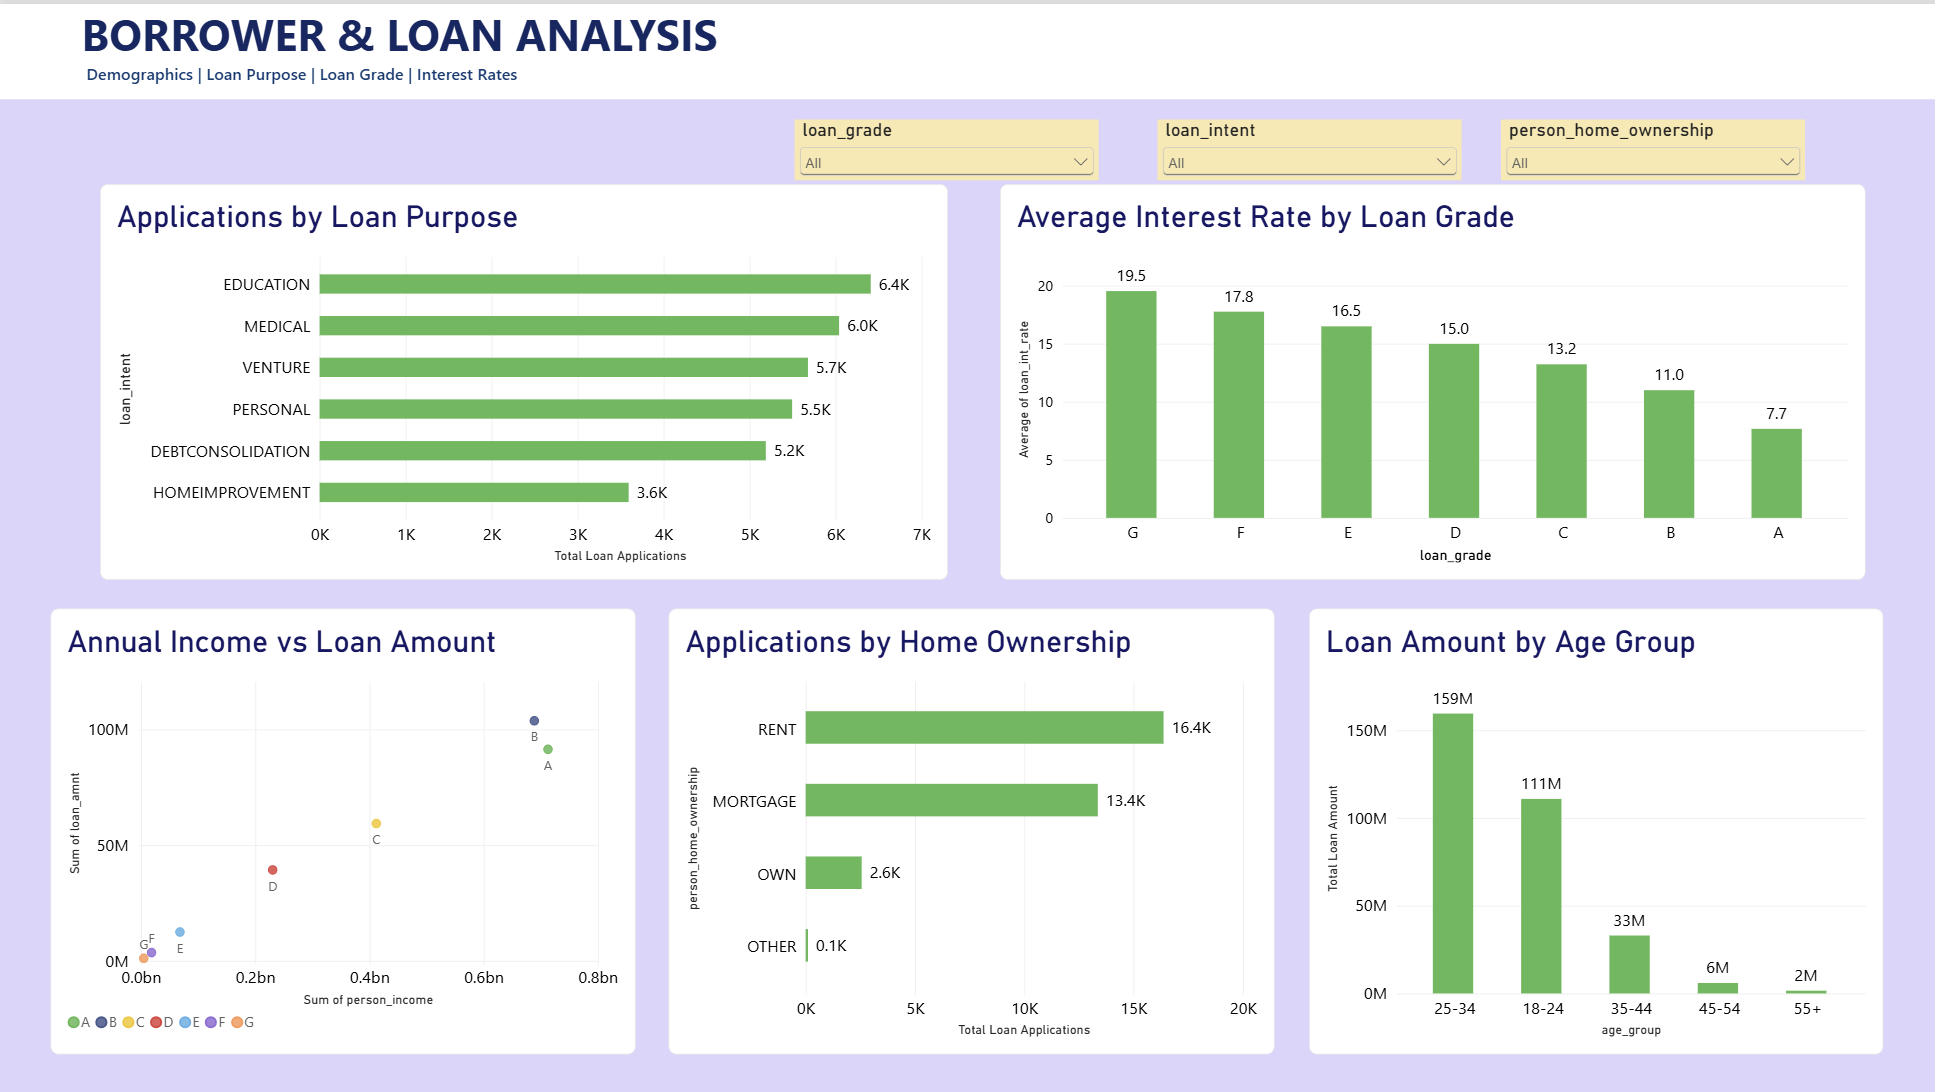

The dashboard page shown, as its layout file describes it:
{"tool":"powerbi","page":{"name":"loan","canvas":[1920,1080],"ordinal":1},"visuals":[{"type":"clusteredBarChart","title":"Applications by Loan Purpose","fields":{"Category":["loan_risk_portfolio credit_risk_dataset.loan_intent"],"Y":["loan_risk_portfolio credit_risk_dataset.Total Loan Applications"]},"box":[100,178,836.9,390.8],"z":0},{"type":"clusteredColumnChart","title":"Average Interest Rate by Loan  Grade","fields":{"Category":["loan_risk_portfolio credit_risk_dataset.loan_grade"],"Y":["Avg(loan_risk_portfolio credit_risk_dataset.loan_int_rate)"]},"box":[988,178,854.3,390.8],"z":1},{"type":"scatterChart","title":"Annual Income vs Loan Amount","fields":{"Series":["loan_risk_portfolio credit_risk_dataset.loan_grade"],"X":["Sum(loan_risk_portfolio credit_risk_dataset.person_income)"],"Y":["Sum(loan_risk_portfolio credit_risk_dataset.loan_amnt)"]},"box":[52,596,577.5,439.8],"z":2},{"type":"clusteredBarChart","title":"Applications by Home Ownership","fields":{"Category":["loan_risk_portfolio credit_risk_dataset.person_home_ownership"],"Y":["loan_risk_portfolio credit_risk_dataset.Total Loan Applications"]},"box":[662,596,598,439.8],"z":3},{"type":"clusteredColumnChart","title":"Applications by Age Group","fields":{"Category":["loan_risk_portfolio credit_risk_dataset.age_group"],"Y":["loan_risk_portfolio credit_risk_dataset.Total Loan Amountt"]},"box":[1294,596,566.4,439.8],"z":4},{"type":"slicer","fields":{"Values":["loan_risk_portfolio credit_risk_dataset.loan_grade"]},"box":[785.5,113.4,300.2,60],"z":5},{"type":"slicer","fields":{"Values":["loan_risk_portfolio credit_risk_dataset.loan_intent"]},"box":[1144,113.4,300.2,60],"z":6},{"type":"slicer","fields":{"Values":["loan_risk_portfolio credit_risk_dataset.person_home_ownership"]},"box":[1482.5,113.4,300.2,60],"z":7},{"type":"textbox","box":[0,0,1920,94],"z":8},{"type":"textbox","box":[78,58,502,22],"z":9}]}

Visuals, with their boxes in screenshot pixels (x1, y1, x2, y2), scaled from the page's 1920x1080 canvas onto the 1935x1092 screenshot:
"Applications by Loan Purpose" clusteredBarChart: <bbox>101, 180, 944, 575</bbox>
"Average Interest Rate by Loan  Grade" clusteredColumnChart: <bbox>996, 180, 1857, 575</bbox>
"Annual Income vs Loan Amount" scatterChart: <bbox>52, 603, 634, 1047</bbox>
"Applications by Home Ownership" clusteredBarChart: <bbox>667, 603, 1270, 1047</bbox>
"Applications by Age Group" clusteredColumnChart: <bbox>1304, 603, 1875, 1047</bbox>
slicer - loan_risk_portfolio credit_risk_dataset.loan_grade: <bbox>792, 115, 1094, 175</bbox>
slicer - loan_risk_portfolio credit_risk_dataset.loan_intent: <bbox>1153, 115, 1455, 175</bbox>
slicer - loan_risk_portfolio credit_risk_dataset.person_home_ownership: <bbox>1494, 115, 1797, 175</bbox>
textbox: <bbox>0, 0, 1934, 95</bbox>
textbox: <bbox>79, 59, 585, 81</bbox>
